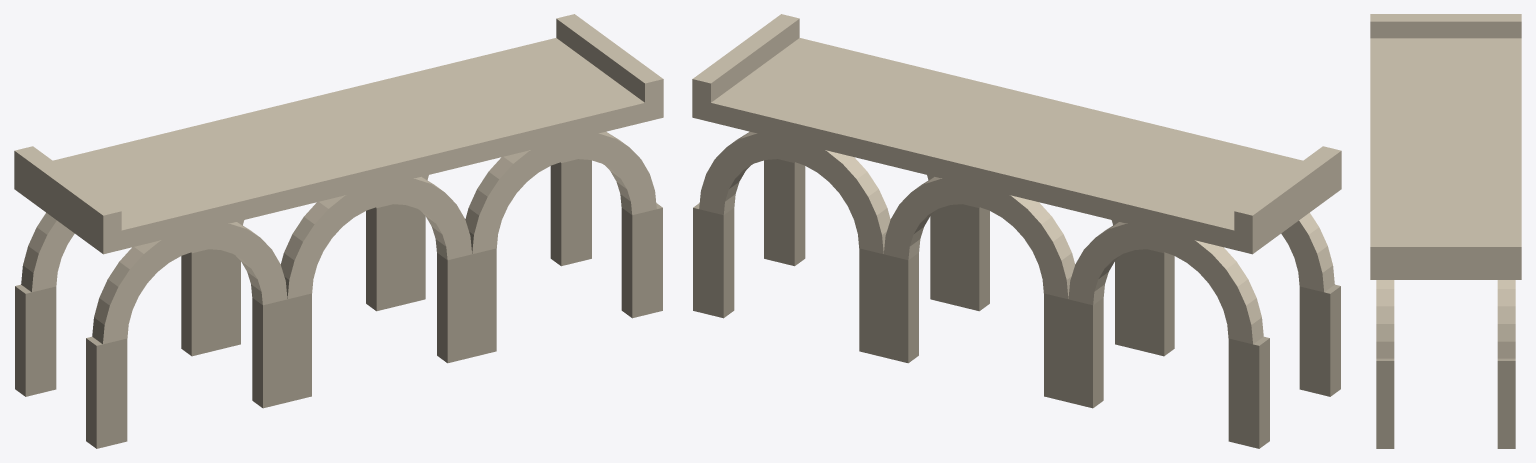
File: 07_arcade.glb
3 views of the same model, side by side, from view 1: azimuth 30°, elevation 25°; view 2: azimuth 150°, elevation 25°; view 3: azimuth 270°, elevation 25° (orthographic). The views are drawn at different scales.
Visible parts, largest first — view 1: 07_arcade_ashlar, 07_arcade_stone; view 2: 07_arcade_ashlar, 07_arcade_stone; view 3: 07_arcade_ashlar, 07_arcade_stone.
Boxes of the visible parts, x1,y1,x2,y2 form: 07_arcade_ashlar: (14,14,663,344); 07_arcade_stone: (15,159,662,448); 07_arcade_ashlar: (692,14,1341,344); 07_arcade_stone: (693,159,1340,448); 07_arcade_ashlar: (1370,14,1521,358); 07_arcade_stone: (1376,358,1515,448).
Size of the model in its own units: 92 by 36.5 by 25.
